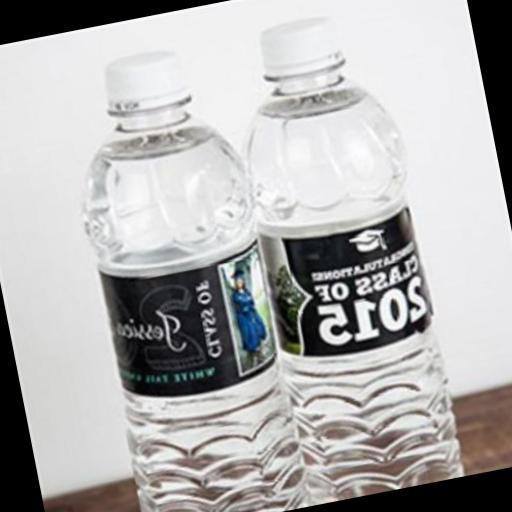Coca: (196, 0, 480, 509), (42, 25, 319, 512)
